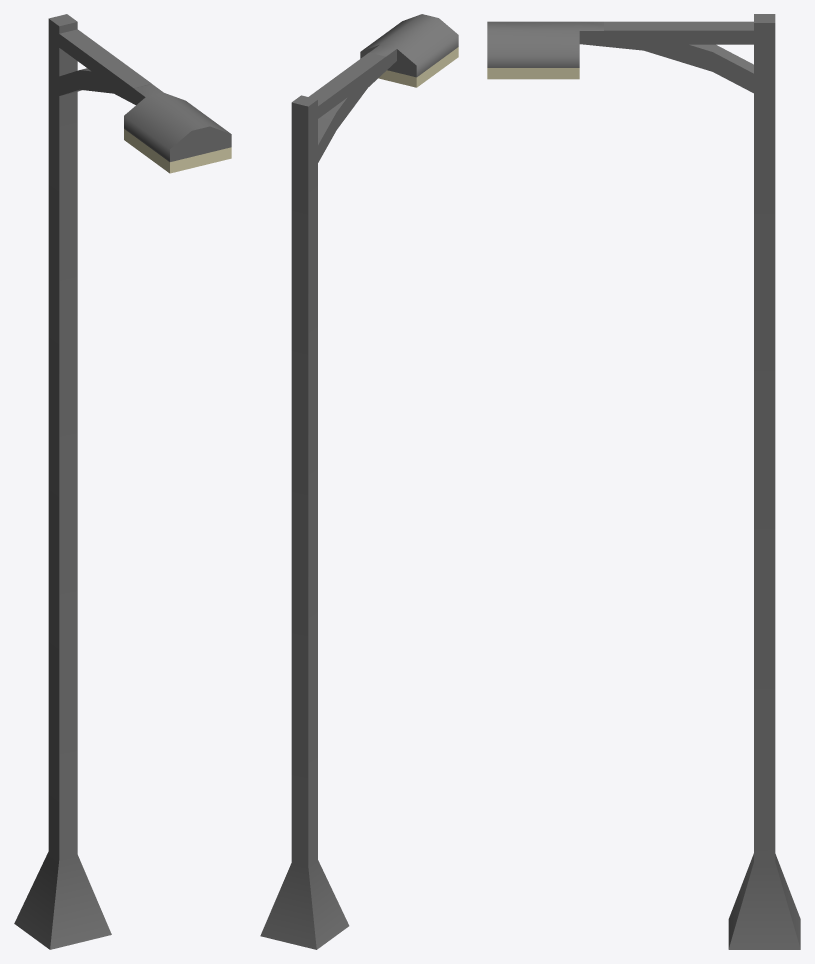
Rendered from Lamppost.fbx.
3 views of the same model, side by side, from view 1: azimuth 30°, elevation 25°; view 2: azimuth 150°, elevation 25°; view 3: azimuth 270°, elevation 25° (orthographic). The views are drawn at different scales.
Visible parts, largest first — view 1: pCube6; view 2: pCube6; view 3: pCube6.
Boxes of the visible parts, <box> form: pCube6: <box>14,14,231,949</box>; pCube6: <box>260,14,458,949</box>; pCube6: <box>487,14,800,949</box>.
Bounding box in the file's own units: 0.5709 × 8 × 2.48.
